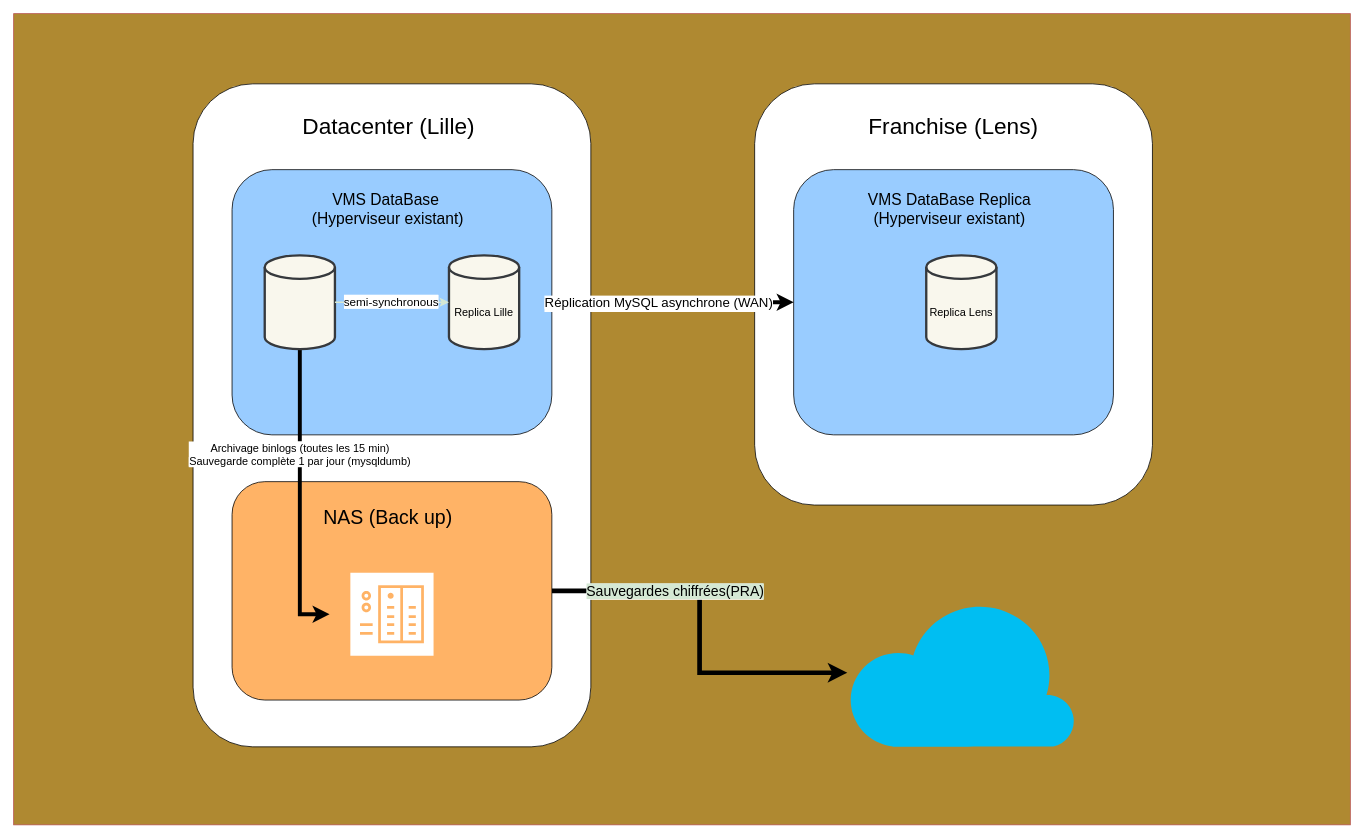
This 1364x838 diagram has some shape labels left out. The shapes that lost their labels are listed below. From the top down, each one's centre as x and y in pixels, then its label:
the point at 299,302: Primary
the point at 961,672: Azure Storage
